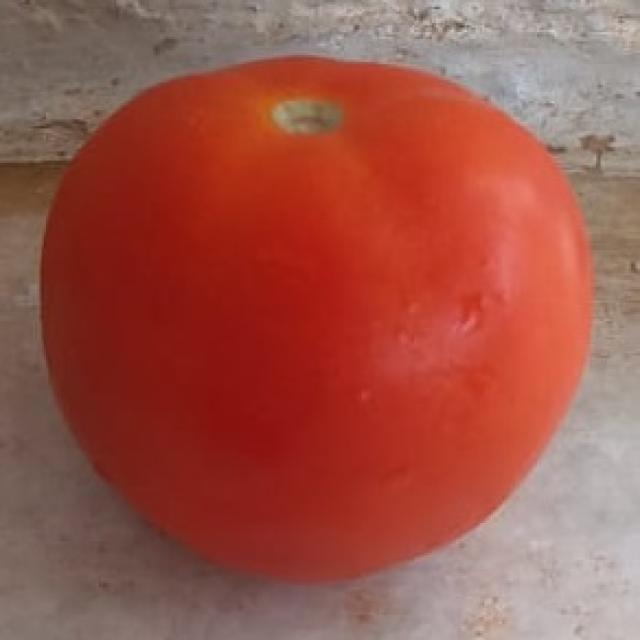ripe tomato: (37, 32, 602, 606)
